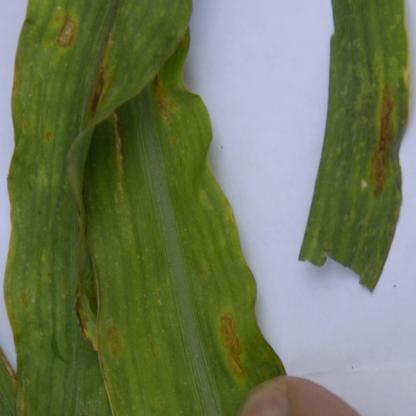Corn leaf blight: (97, 56, 264, 400), (1, 1, 137, 415)
